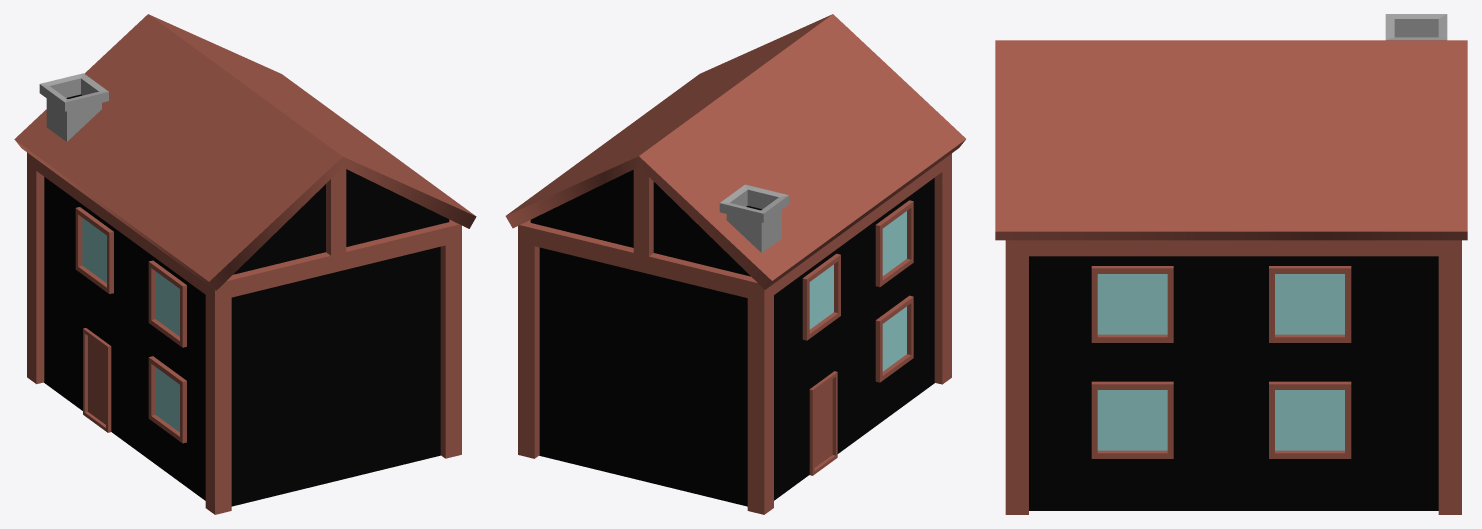
The model's file is oldHouse3.fbx.
3 renders of one model, left to right at view 1: azimuth 30°, elevation 25°; view 2: azimuth 150°, elevation 25°; view 3: azimuth 270°, elevation 25°, orthographic. The views are drawn at different scales.
Parts seen in each view (by area): view 1: Wohnhaus3.002, Wohnhaus5.014, Cube.020, Plane.038, Cube.024, Plane.039; view 2: Wohnhaus3.002, Wohnhaus5.014, Cube.020, Plane.038, Cube.024, Plane.039; view 3: Wohnhaus5.014, Wohnhaus3.002, Plane.038, Cube.020, Cube.024.
Part boxes in pixels (left/top/right/bottom): Wohnhaus3.002: left=44, top=169, right=449, bottom=506; Wohnhaus5.014: left=14, top=14, right=476, bottom=290; Cube.020: left=27, top=152, right=461, bottom=514; Plane.038: left=75, top=207, right=186, bottom=443; Cube.024: left=39, top=73, right=108, bottom=141; Plane.039: left=83, top=328, right=111, bottom=432; Wohnhaus3.002: left=530, top=169, right=934, bottom=506; Wohnhaus5.014: left=505, top=14, right=965, bottom=289; Cube.020: left=518, top=153, right=951, bottom=514; Plane.038: left=802, top=200, right=913, bottom=382; Cube.024: left=719, top=184, right=788, bottom=252; Plane.039: left=809, top=371, right=837, bottom=475; Wohnhaus5.014: left=995, top=40, right=1467, bottom=240; Wohnhaus3.002: left=1029, top=256, right=1438, bottom=510; Plane.038: left=1091, top=266, right=1351, bottom=458; Cube.020: left=1005, top=240, right=1461, bottom=514; Cube.024: left=1385, top=14, right=1447, bottom=40.
Size of the model in its own units: 6.94 by 8.22 by 8.75.
